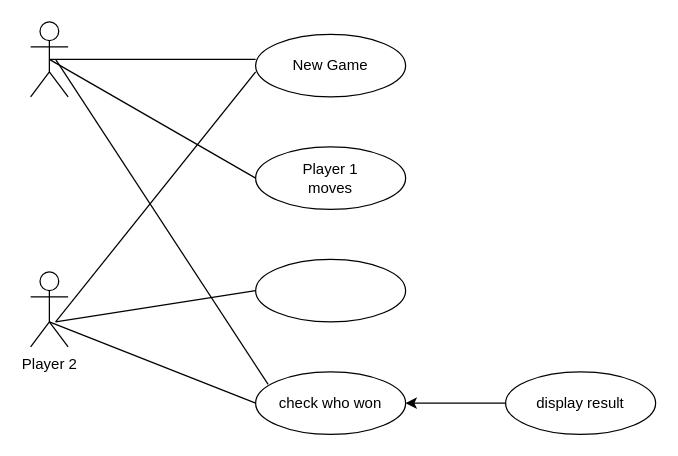
The diagram is 678 pixels wide and 456 high, and some of its shapes have lost their labels. Here are the shapes that lost their labels. From the top down, the centre of each, then its label:
[48,59]: Player 1
[330,290]: Player 2 moves
